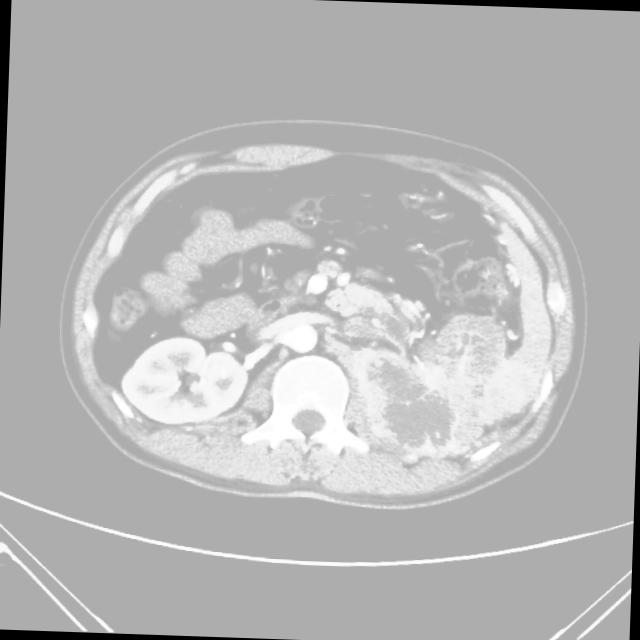TUMOR: (102, 141, 544, 483)
